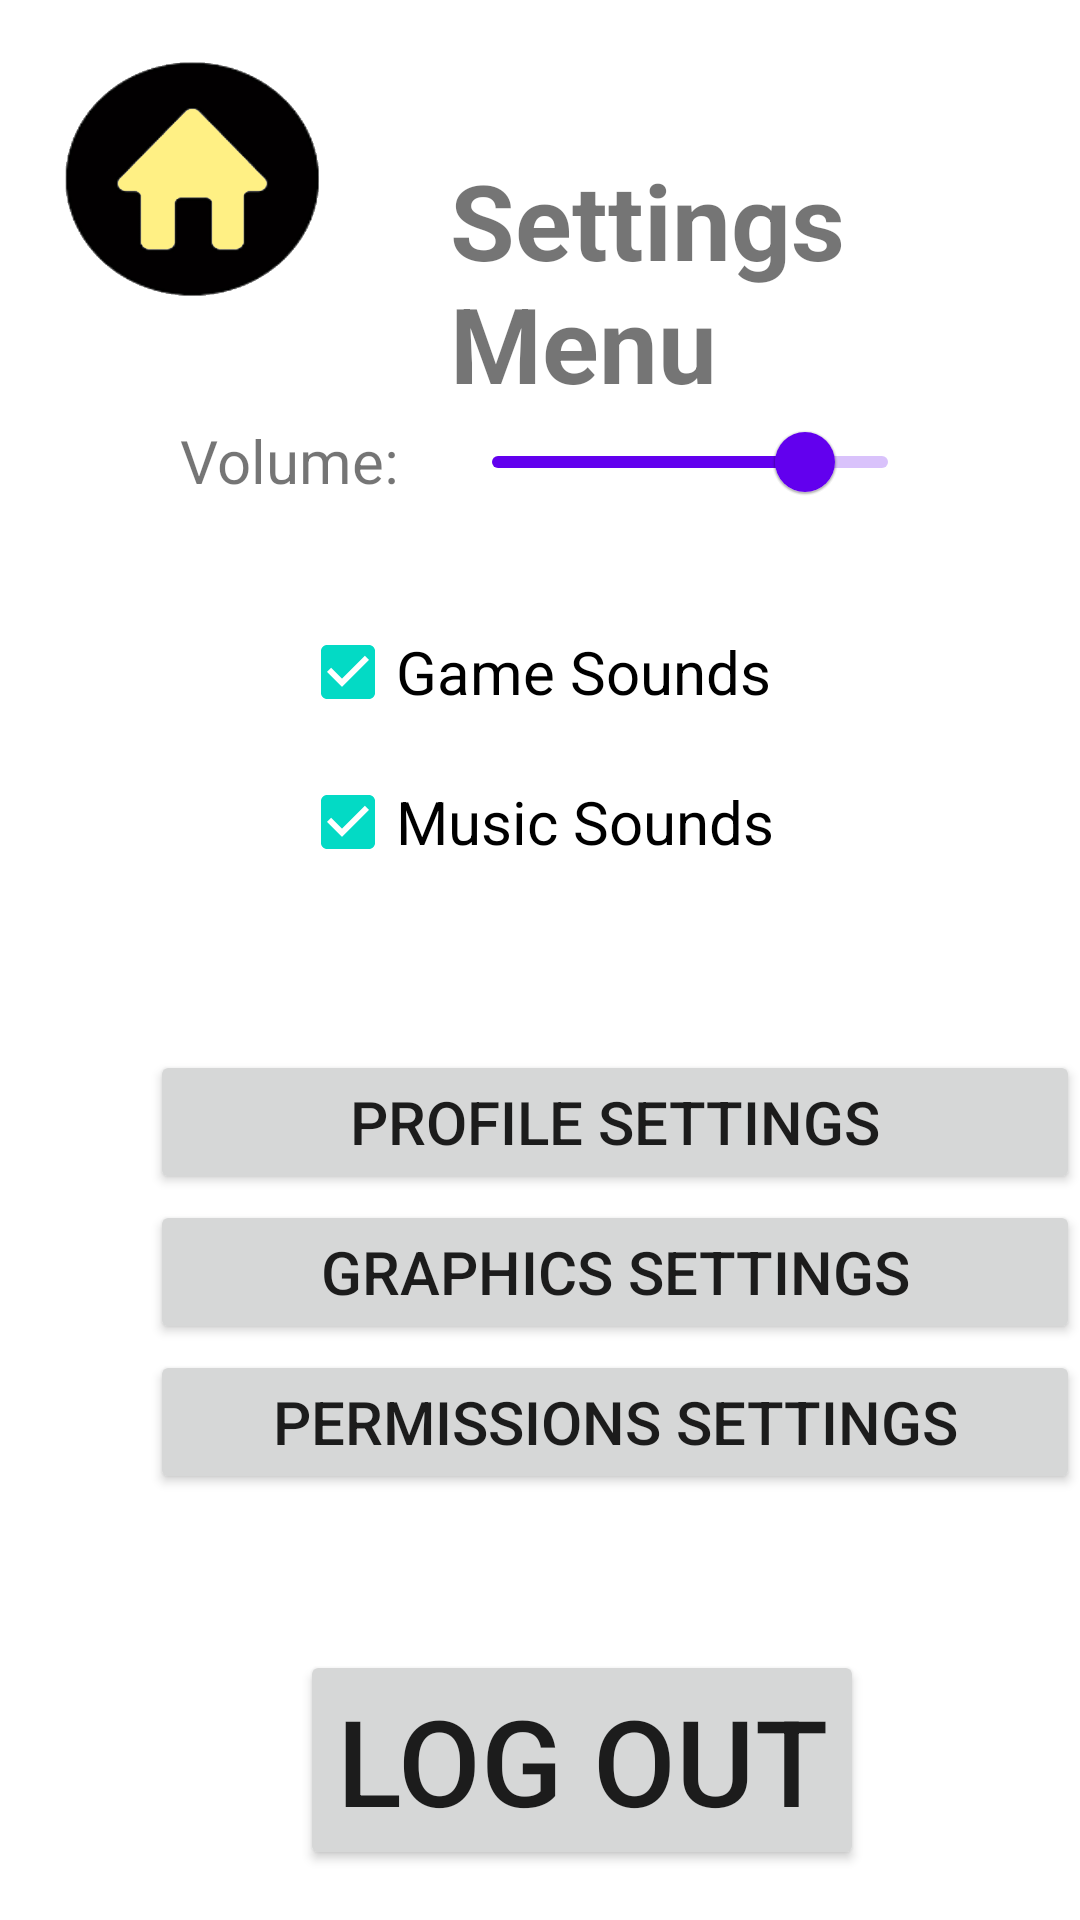

Icon click points for this 1080 × 1920 phone screenshot, format [x,y]:
homebutton: [192,179]
